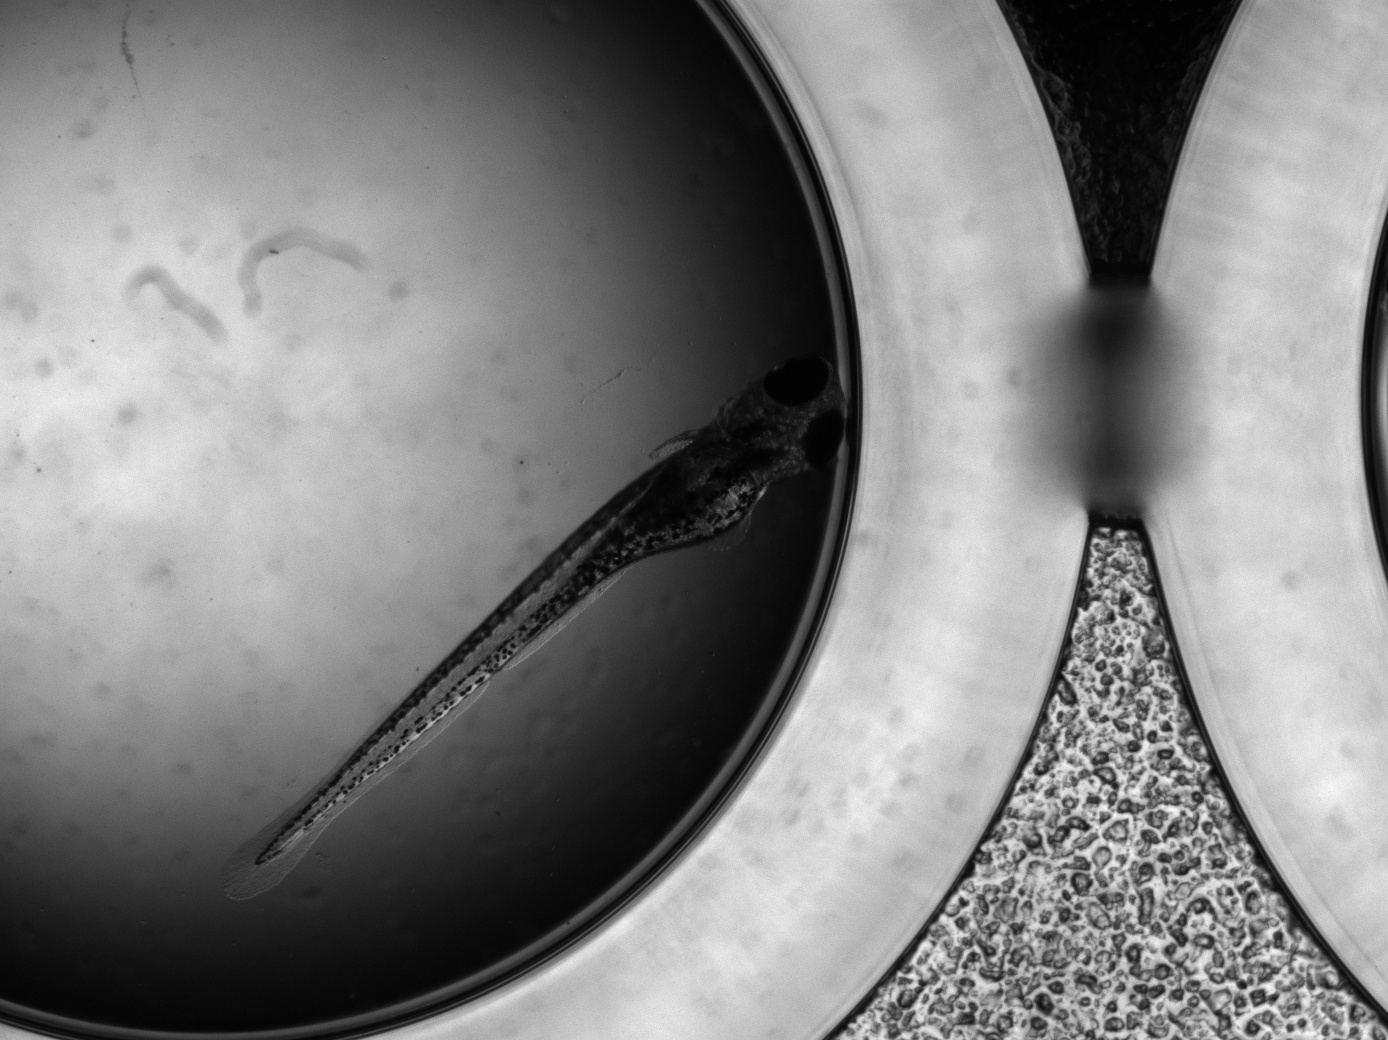embryo: (249, 356, 847, 868)
eye: (761, 356, 829, 407), (802, 407, 844, 468)
yolksac: (650, 437, 759, 548)
